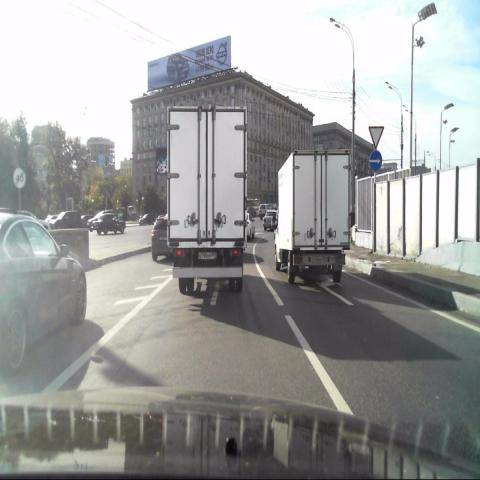2_4: (367, 126, 384, 150)
3_25: (13, 166, 26, 191)
4_1_2_1: (369, 151, 383, 175)
